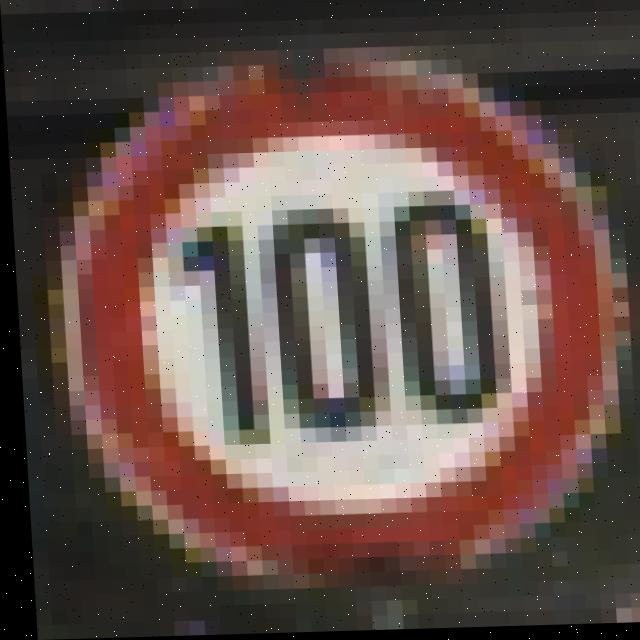speed_limit_100: (51, 62, 631, 588)
